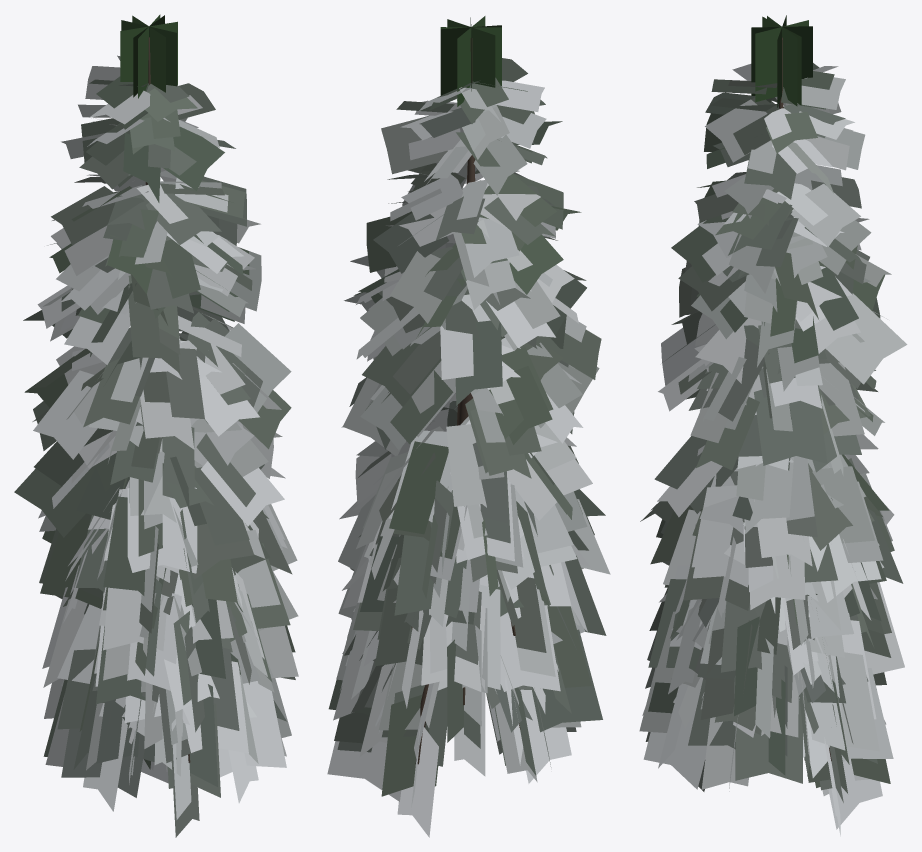
Rendered from conifer.spruce.snow.glb.
3 renders of one model, left to right at view 1: azimuth 30°, elevation 25°; view 2: azimuth 150°, elevation 25°; view 3: azimuth 270°, elevation 25°, orthographic.
Visible parts, largest first — view 1: conifer_spruce_snow; view 2: conifer_spruce_snow; view 3: conifer_spruce_snow.
Part boxes in pixels (x1,y1,x2,y2): conifer_spruce_snow: [14, 14, 298, 837]; conifer_spruce_snow: [327, 16, 610, 837]; conifer_spruce_snow: [639, 15, 907, 836].
Size of what is drawn, in the model's own units: 3.74 by 11.37 by 3.54.
